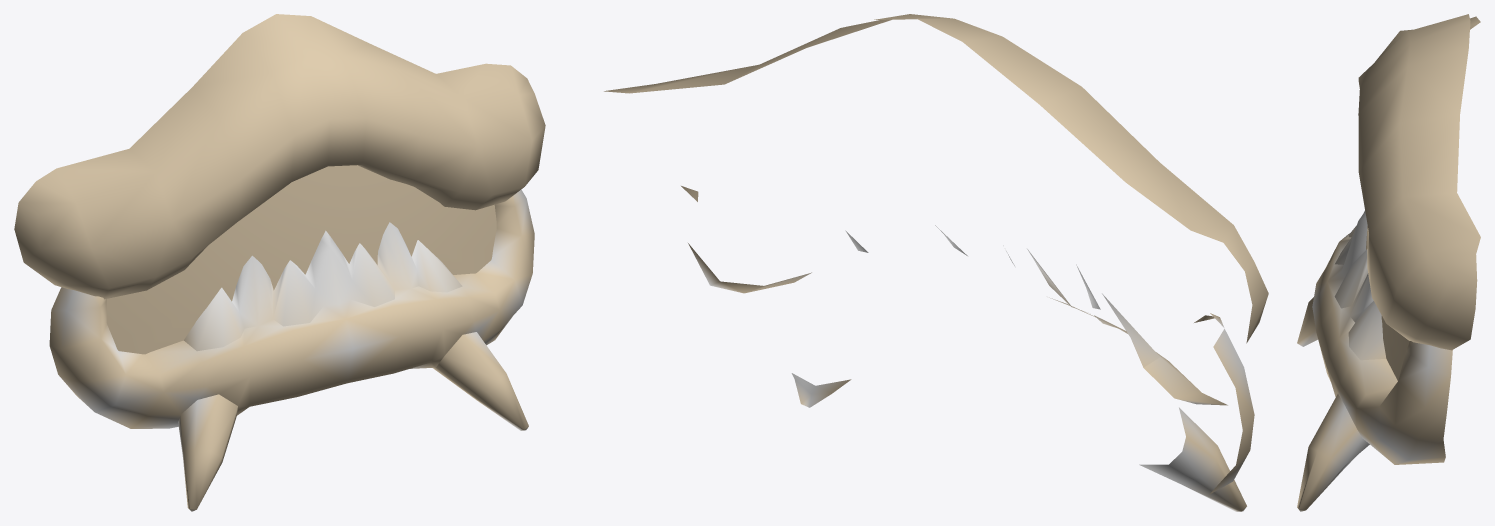
File: S12_Aquatic04_L2_Mouth.glb
3 renders of one model, left to right at view 1: azimuth 30°, elevation 25°; view 2: azimuth 150°, elevation 25°; view 3: azimuth 270°, elevation 25°, orthographic. The views are drawn at different scales.
Visible parts, largest first — view 1: S12_Aquatic04_L2_Mouth__Mouth_M__surface0__lod0; view 2: S12_Aquatic04_L2_Mouth__Mouth_M__surface0__lod0; view 3: S12_Aquatic04_L2_Mouth__Mouth_M__surface0__lod0.
Boxes of the visible parts, x1,y1,x2,y2 form: S12_Aquatic04_L2_Mouth__Mouth_M__surface0__lod0: (14, 14, 545, 511); S12_Aquatic04_L2_Mouth__Mouth_M__surface0__lod0: (604, 14, 1268, 511); S12_Aquatic04_L2_Mouth__Mouth_M__surface0__lod0: (1297, 14, 1480, 511).
Size of the model in its own units: 53.58 by 39.19 by 16.03.
